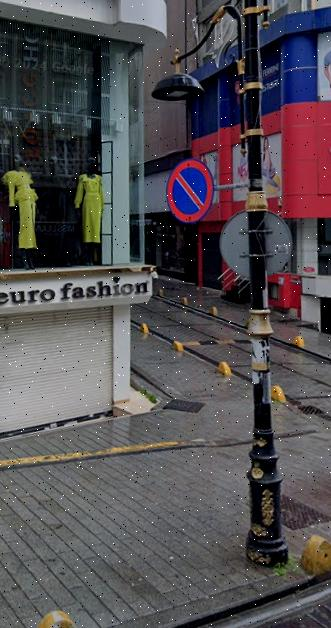nopark: (168, 161, 217, 224)
